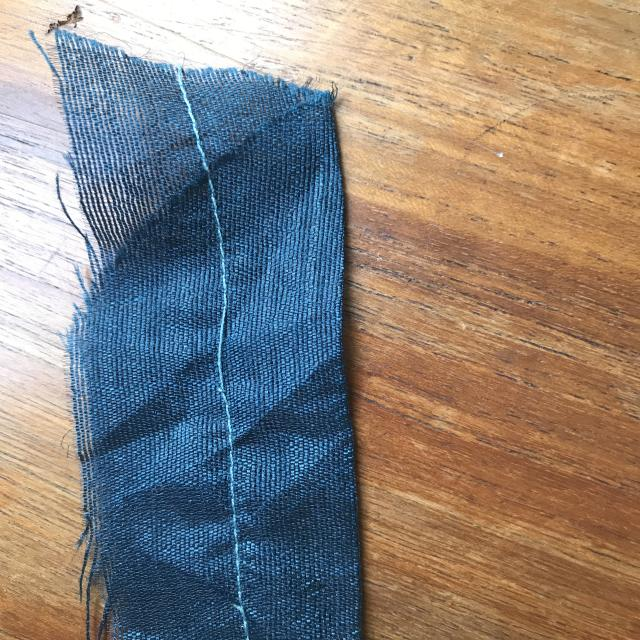skip: (188, 294, 254, 411)
